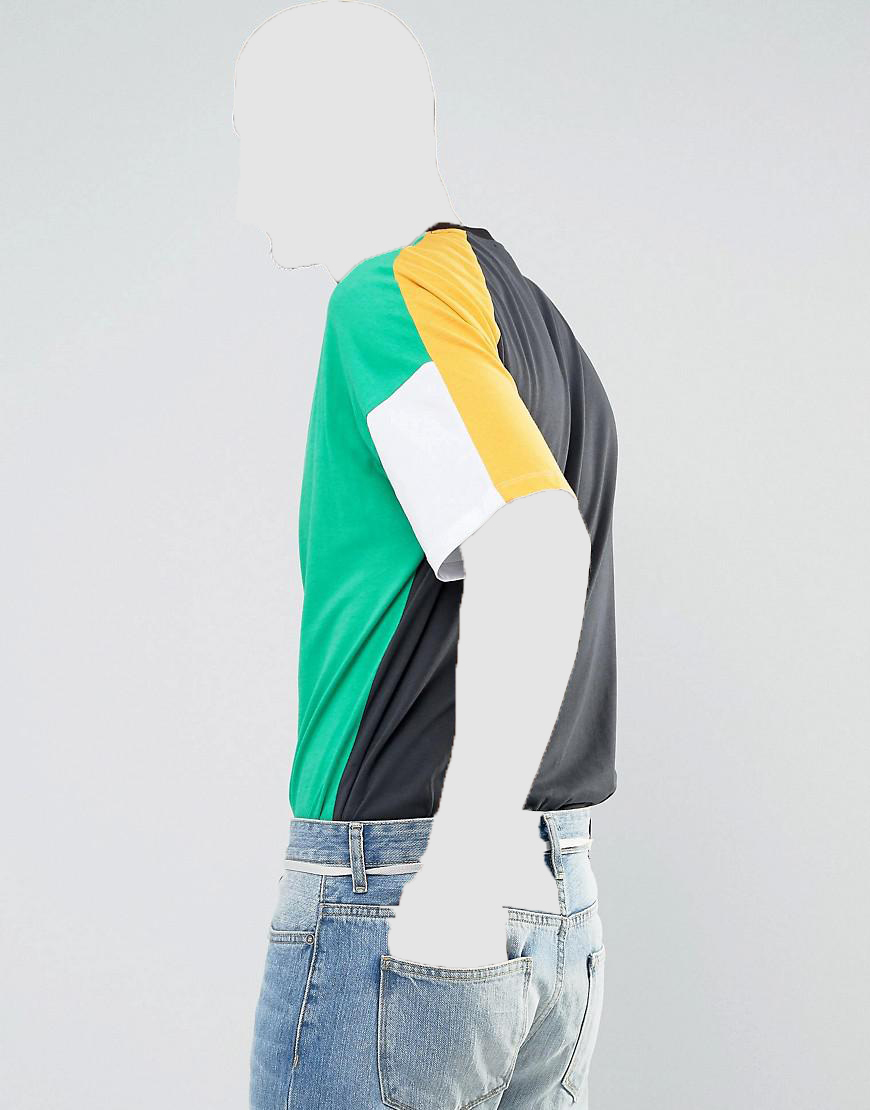teeshirt: (286, 225, 654, 822)
